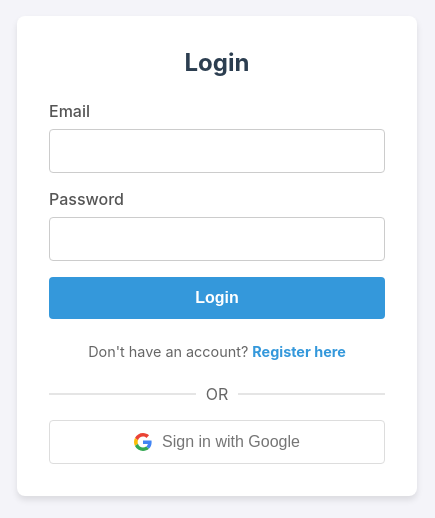
Login › switches to register mode when clicking register link
The width and height of the screenshot is (435, 518).
Click the text "Register here" at (299, 352), box x1=252 y1=343 x2=346 y2=360
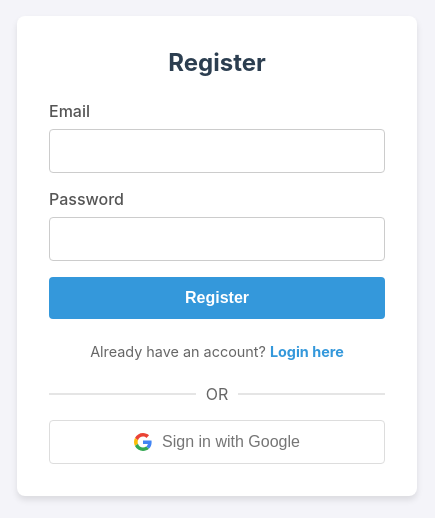
Expected: the heading "Register" is shown, x1=168 y1=48 x2=266 y2=77
